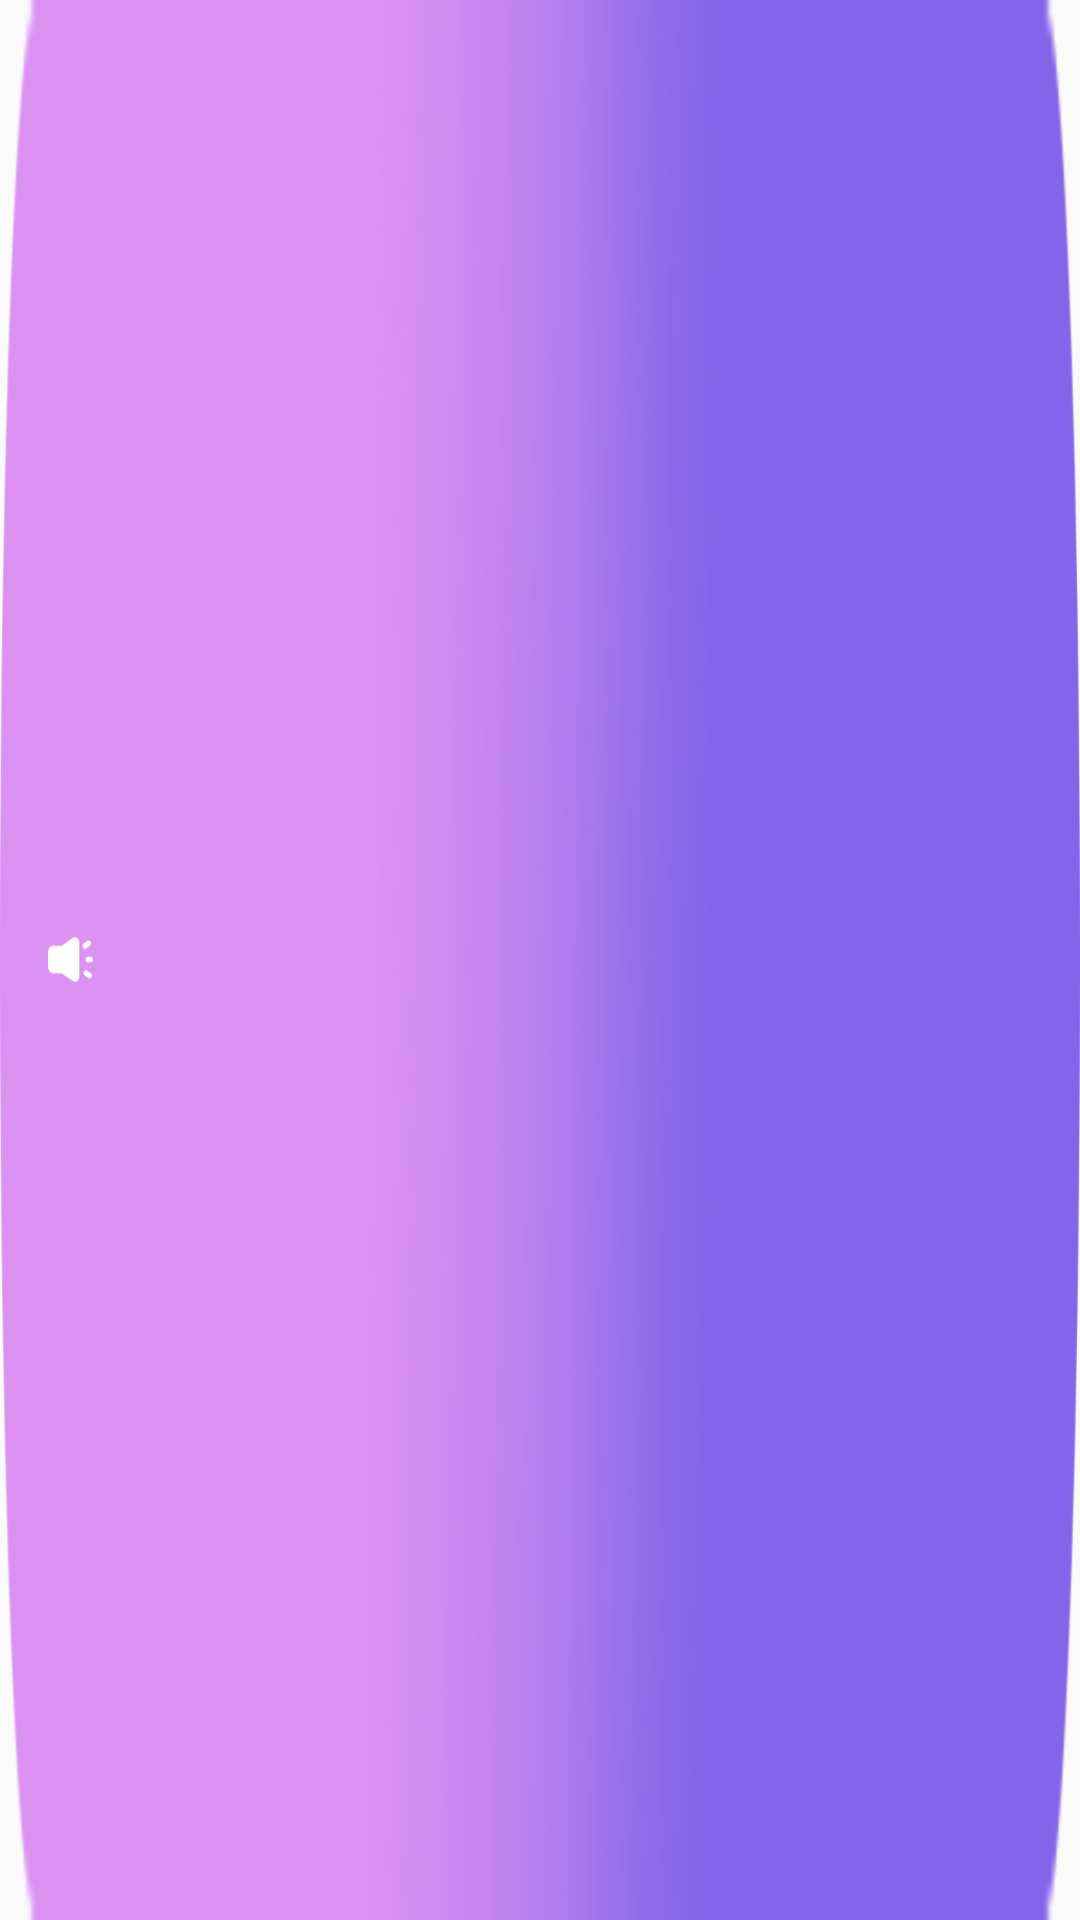

Screen size 1080px×1920px. Icon name, then its box in pixels as box=[x1, y1, x2, y2]:
home horn: box=[48, 937, 93, 982]
